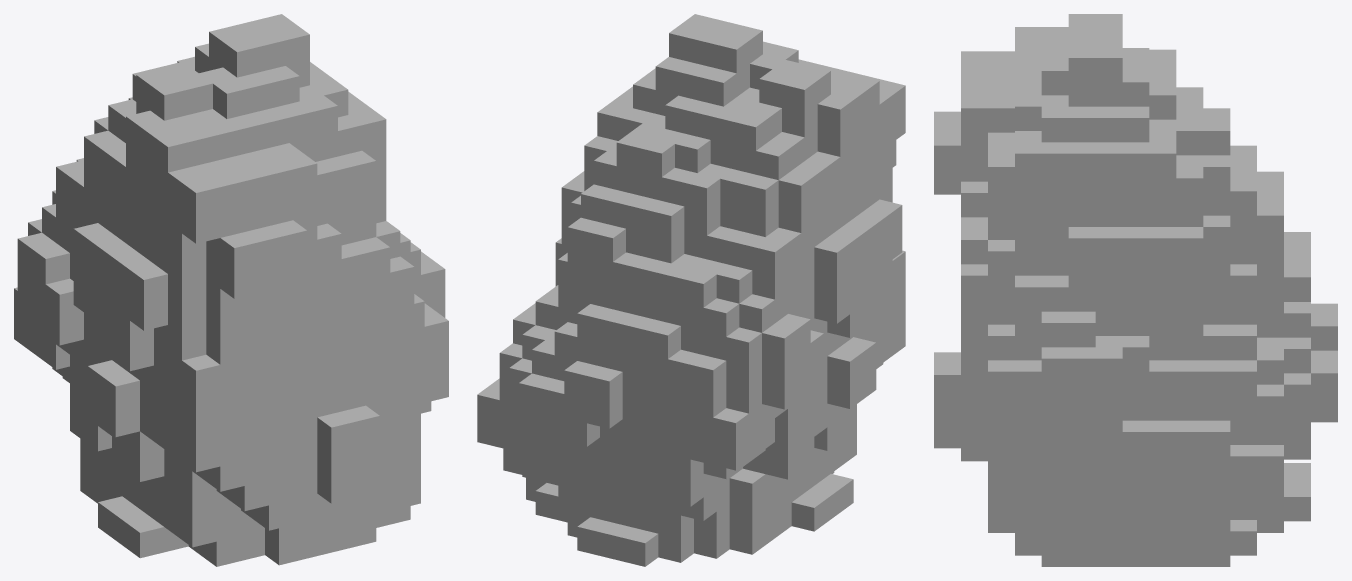
The model's file is MediumRock1.obj.
The picture shows the model from 3 angles, left to right: view 1: azimuth 30°, elevation 25°; view 2: azimuth 150°, elevation 25°; view 3: azimuth 270°, elevation 25°; orthographic projection. The views are drawn at different scales.
Size of the model in its own units: 13 by 19 by 15.
1 material, 1 textured.
